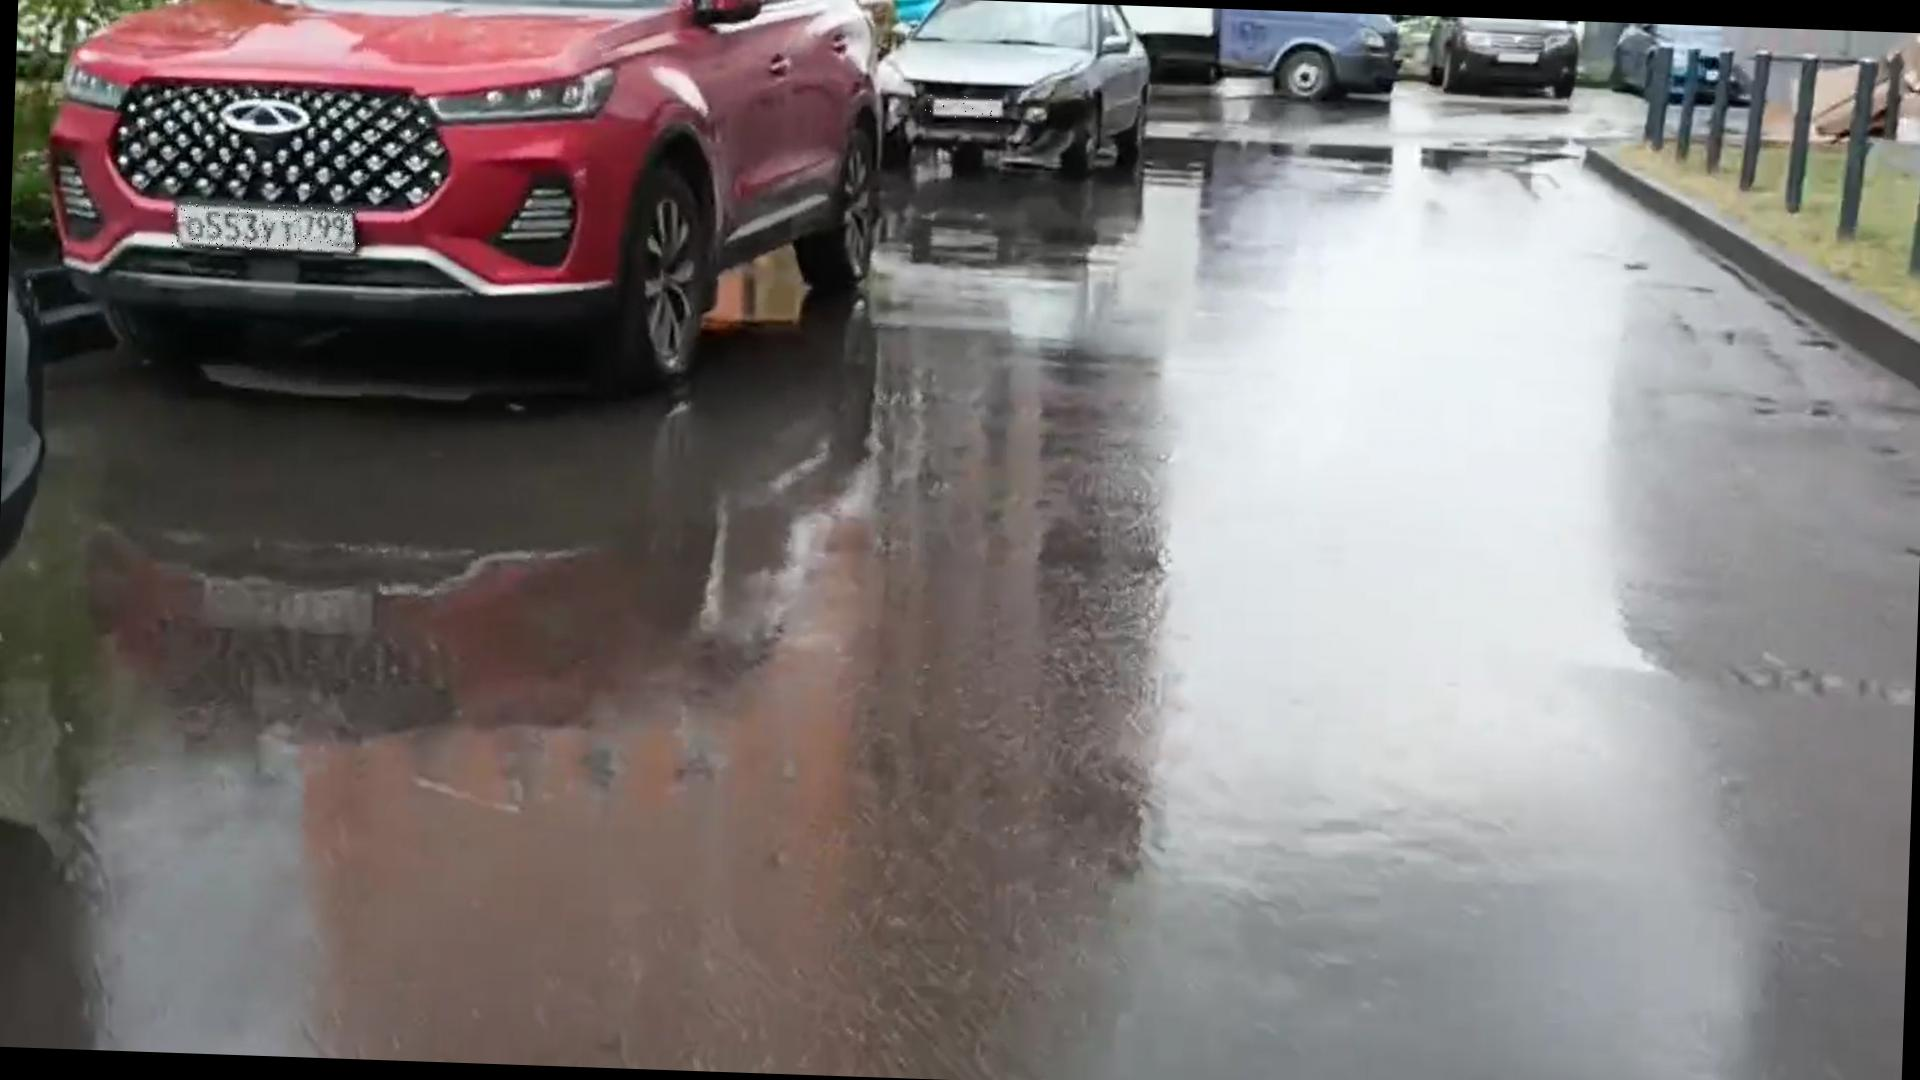plate: (172, 202, 362, 255), (924, 95, 1004, 124)
